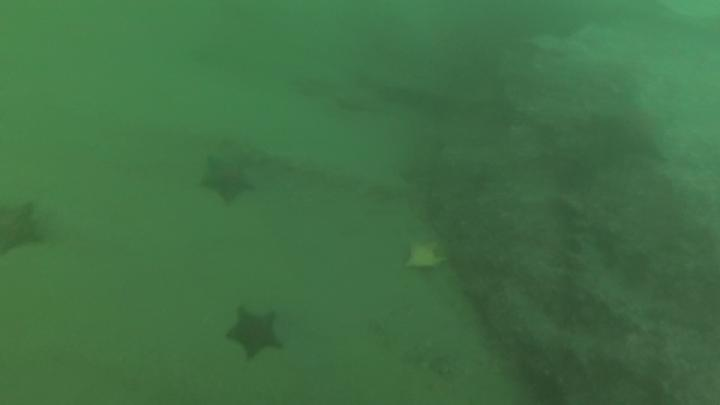starfish: (223, 301, 288, 363), (197, 151, 261, 208), (1, 201, 56, 266), (402, 237, 451, 276)
